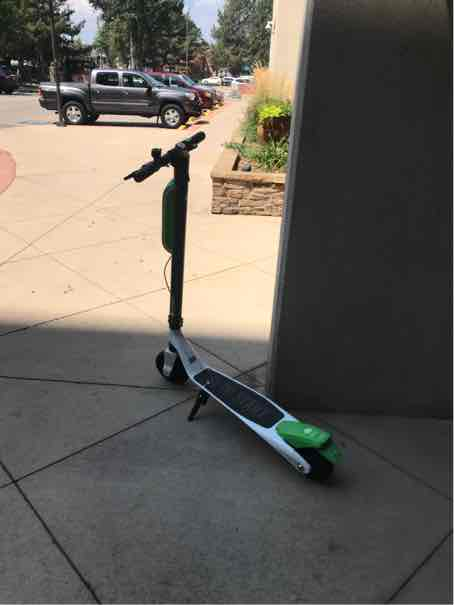scooter: (128, 124, 346, 487)
